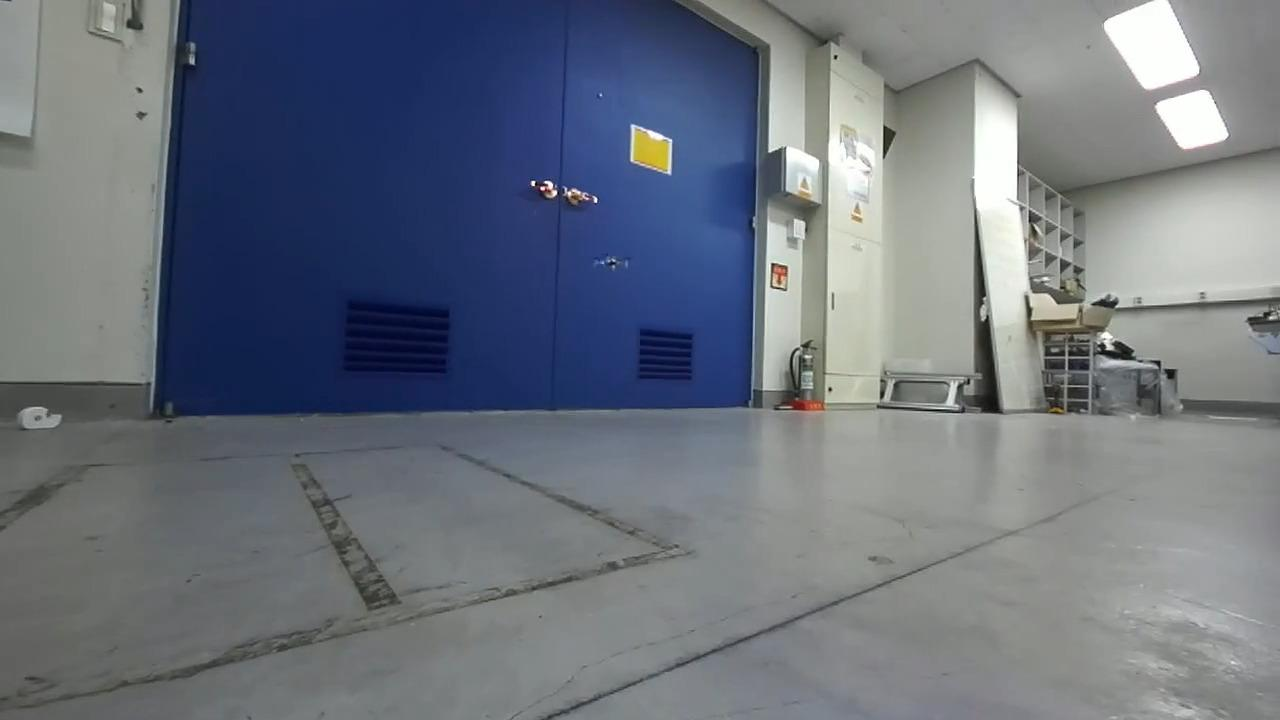crazyflie: (590, 251, 634, 275)
